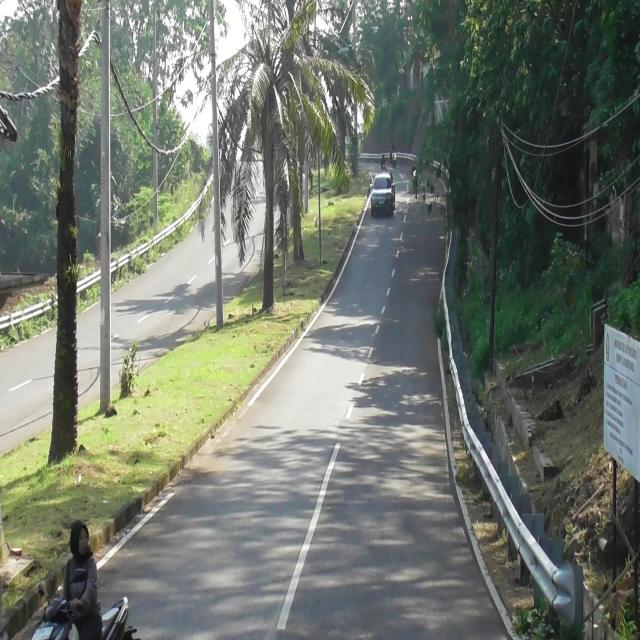motorcycle: (36, 576, 138, 640), (411, 172, 420, 189), (391, 152, 398, 168), (380, 164, 388, 173)
person: (55, 523, 106, 638), (410, 160, 418, 173), (389, 143, 396, 153), (381, 154, 387, 165)
rider_region: (34, 521, 137, 640), (389, 142, 398, 168), (411, 160, 418, 190), (380, 153, 387, 172)
